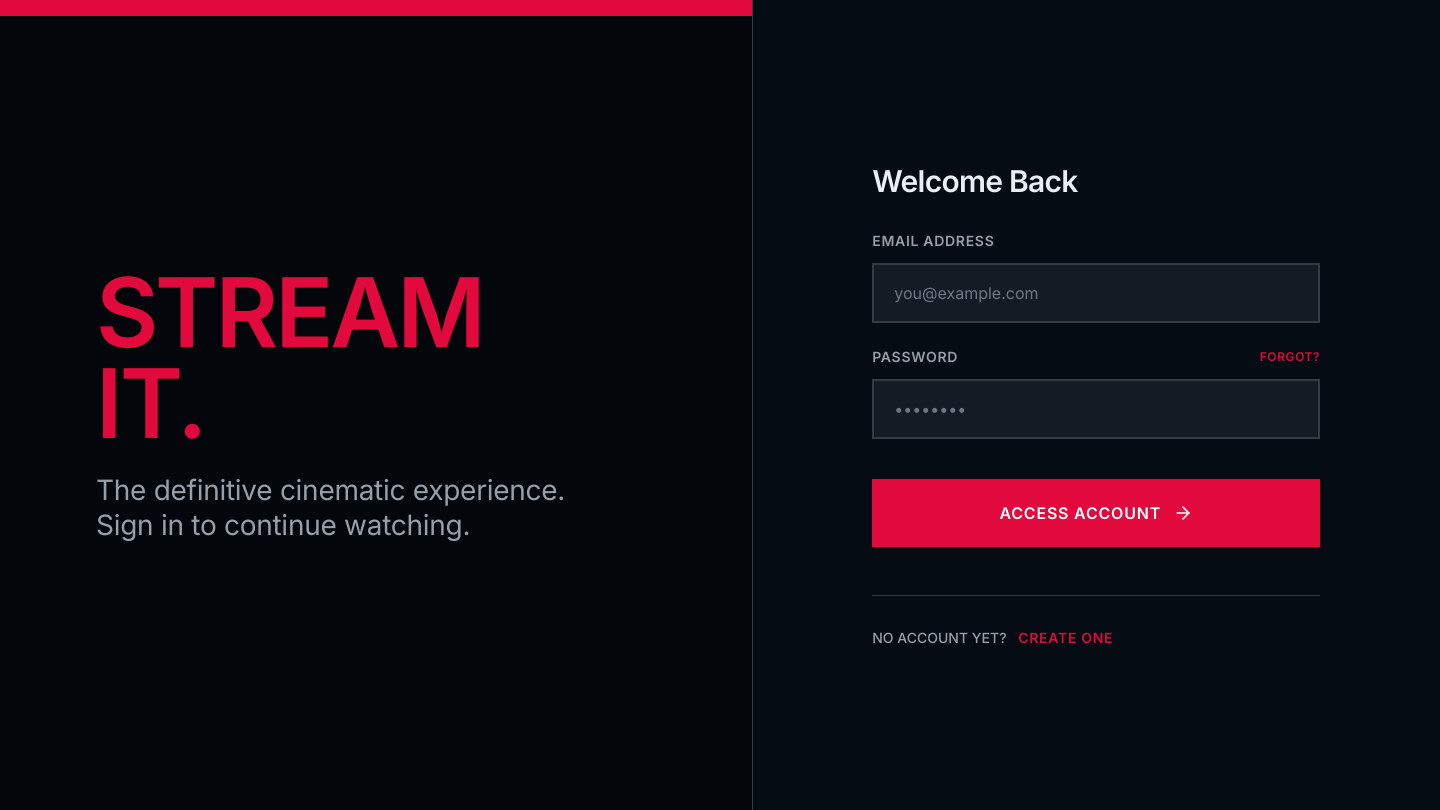
Test: Login Component › displays network error message when backend server is unreachable
In the field labelled "Email Address": (1096, 292) left=872, top=262, right=1320, bottom=322, type "user@example.com"
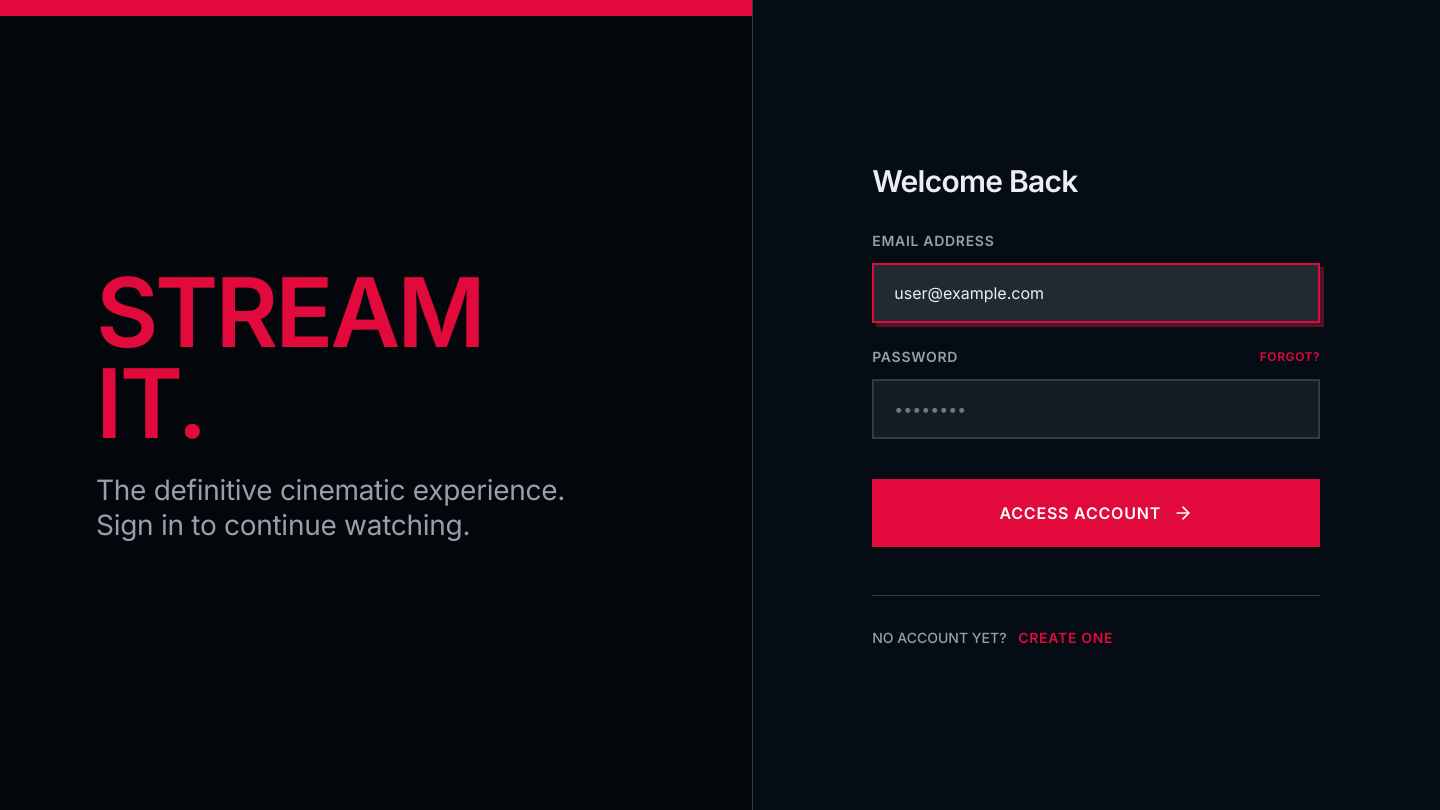
In the password field labelled "Password": (1096, 408) left=872, top=378, right=1320, bottom=438, type "password123"
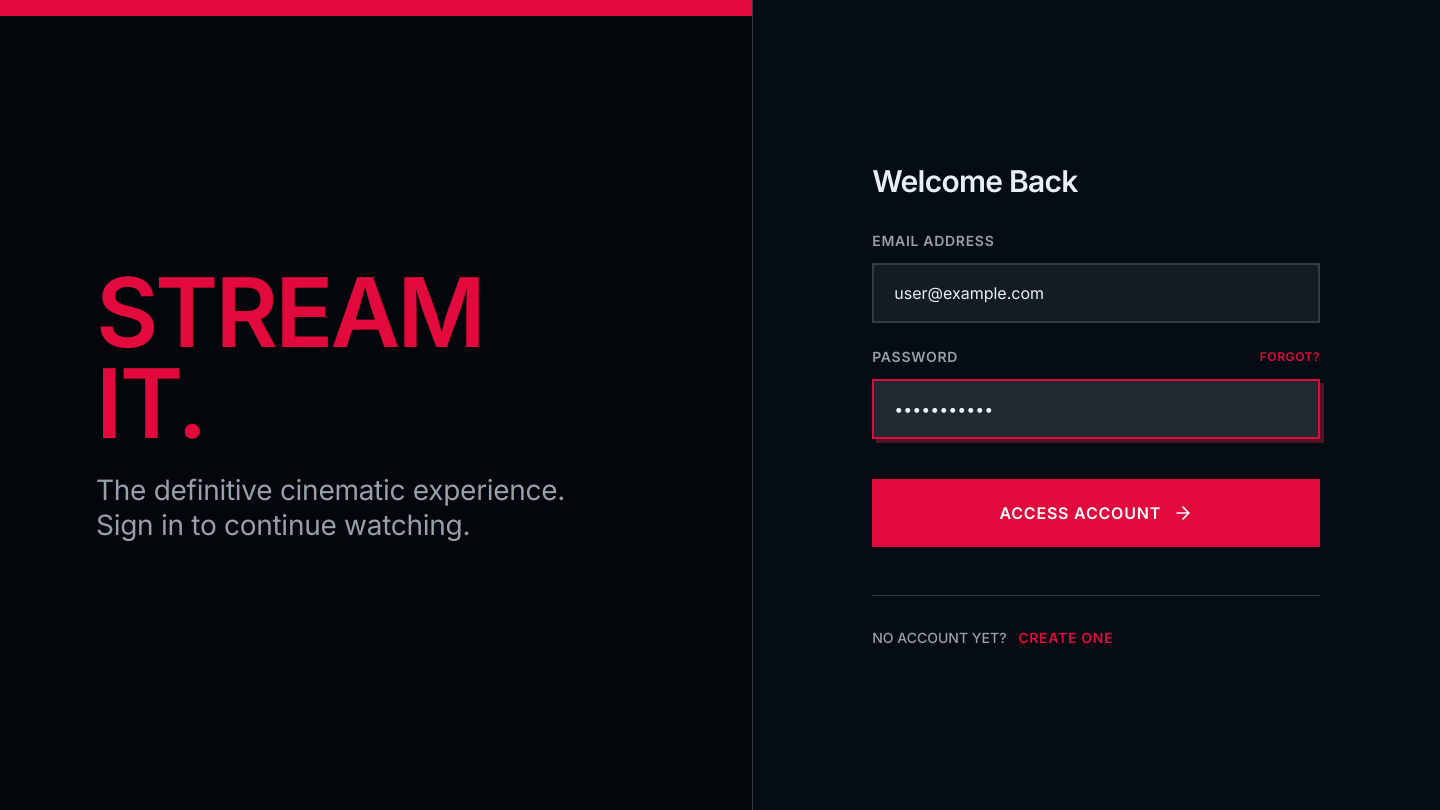
Click the button "Access Account": click(1096, 512) left=872, top=478, right=1320, bottom=546
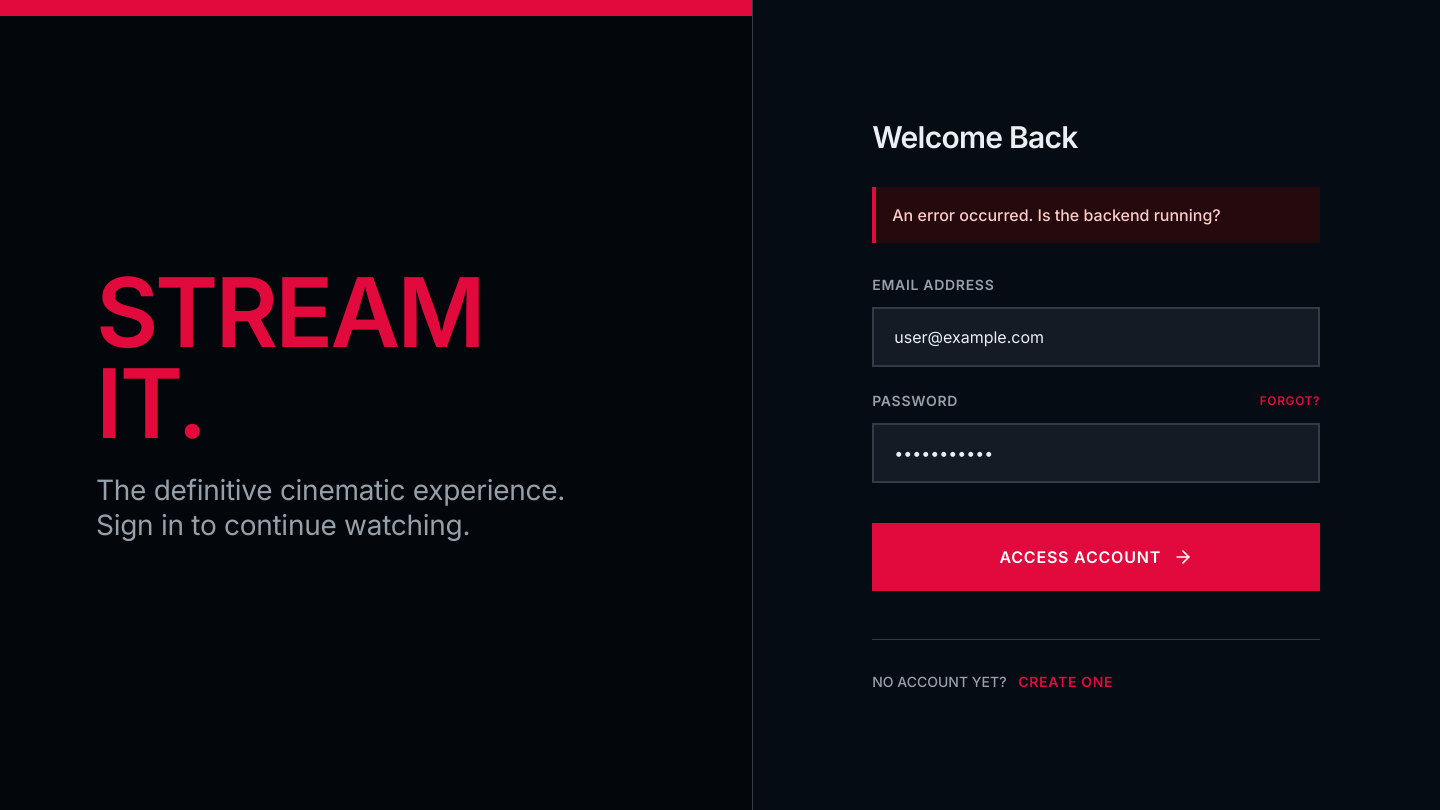
expect the text "An error occurred. Is the backend running?" is shown: met, box left=872, top=186, right=1320, bottom=242
